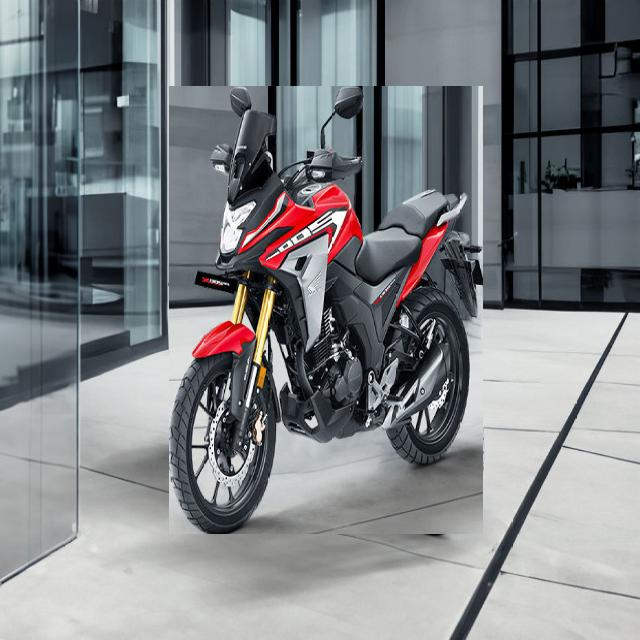motorcycle: (170, 87, 483, 534), (290, 86, 322, 118)
